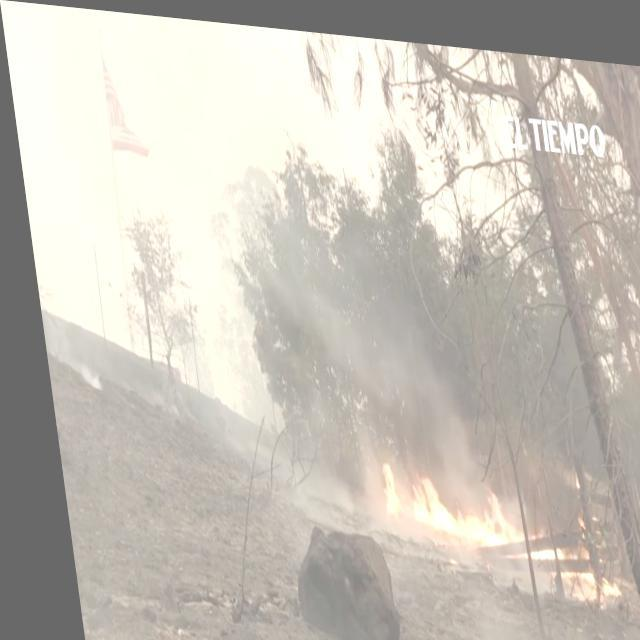Fire: (366, 455, 511, 536), (548, 558, 608, 598)
